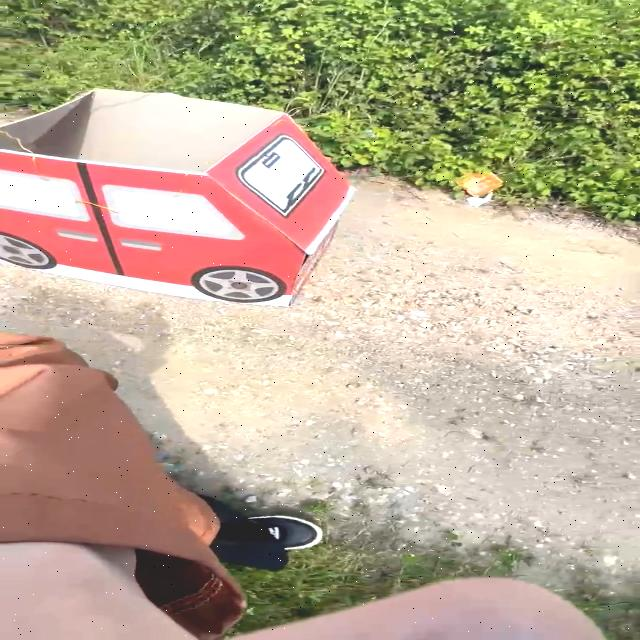red_car: (0, 80, 400, 314)
